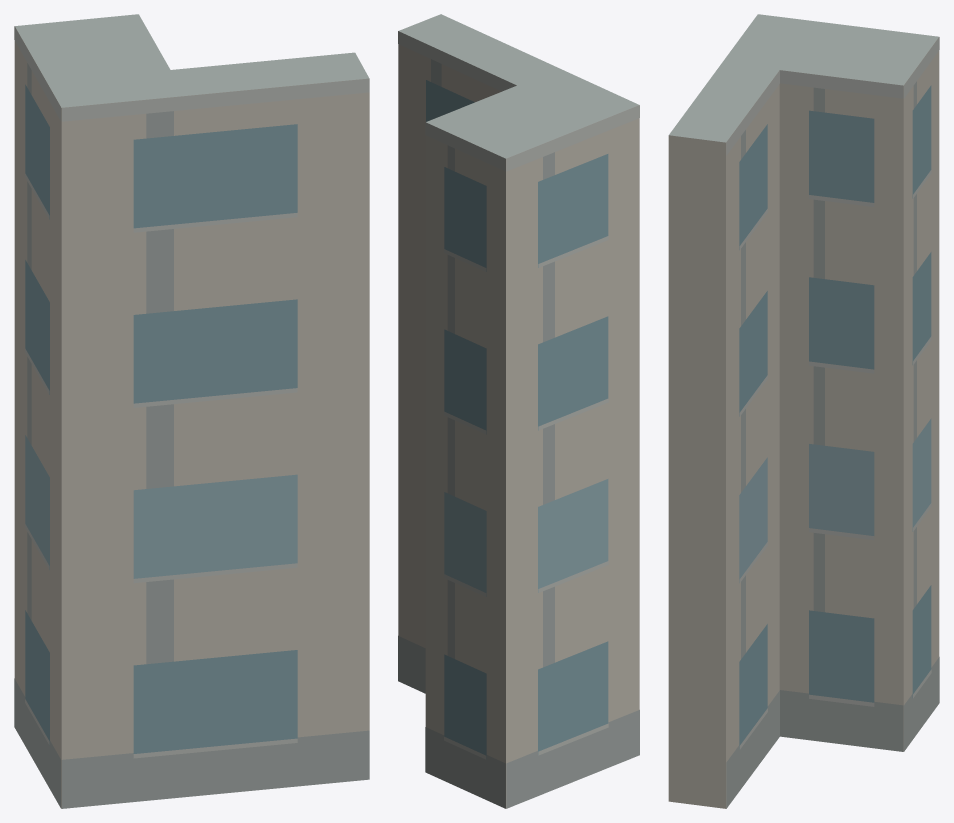
The model's file is survey-upis-32817739.glb.
3 views of the same model, side by side, from view 1: azimuth 30°, elevation 25°; view 2: azimuth 150°, elevation 25°; view 3: azimuth 270°, elevation 25° (orthographic). The views are drawn at different scales.
Visible parts, largest first — view 1: survey-upis-32817739.tmp; view 2: survey-upis-32817739.tmp; view 3: survey-upis-32817739.tmp.
Boxes of the visible parts, <box> form: survey-upis-32817739.tmp: <box>14,14,369,808</box>; survey-upis-32817739.tmp: <box>398,14,639,808</box>; survey-upis-32817739.tmp: <box>668,14,939,808</box>.
Bounding box in the file's own units: 5.05 × 12.2 × 4.5.
